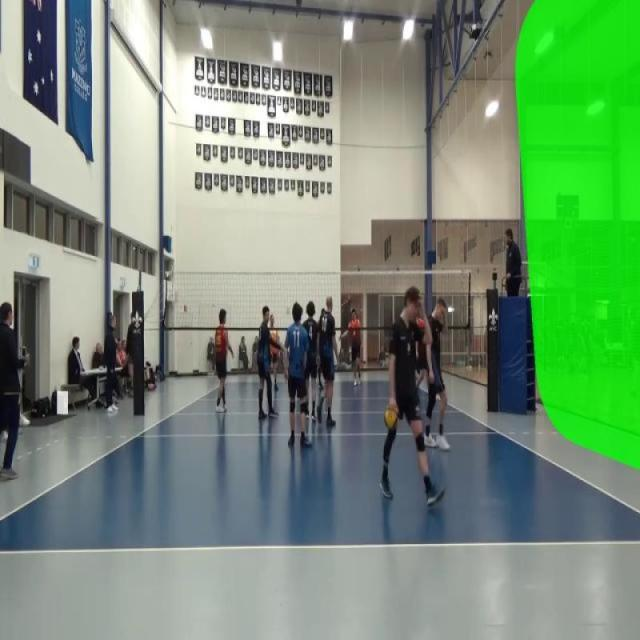volleyball: (382, 405, 400, 430)
